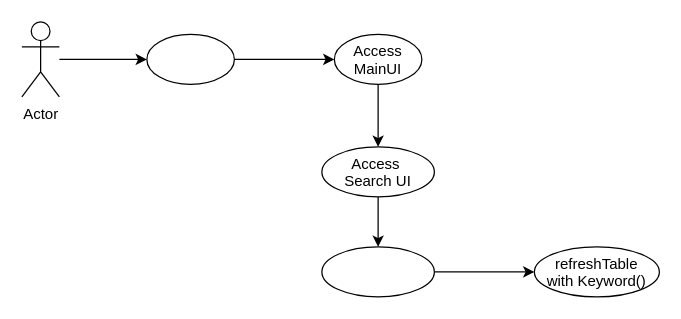
This 681x319 diagram has some shape labels left out. Each missing label, with the centre of its shape:
inputs KeyWords: the point at 377,271
Logins: the point at 190,58
